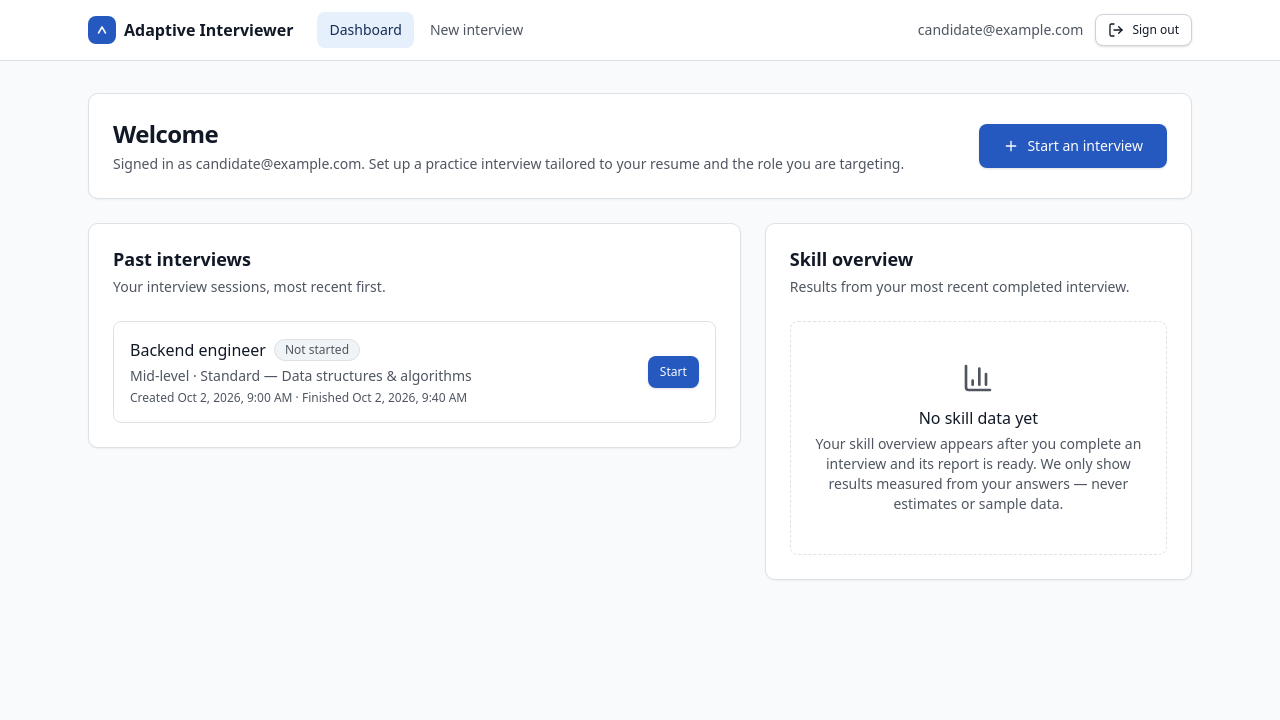
Test: dashboard › starts a not-yet-started session from the list
The width and height of the screenshot is (1280, 720).
Click the button "Start" at (673, 372), box x1=648 y1=356 x2=699 y2=388
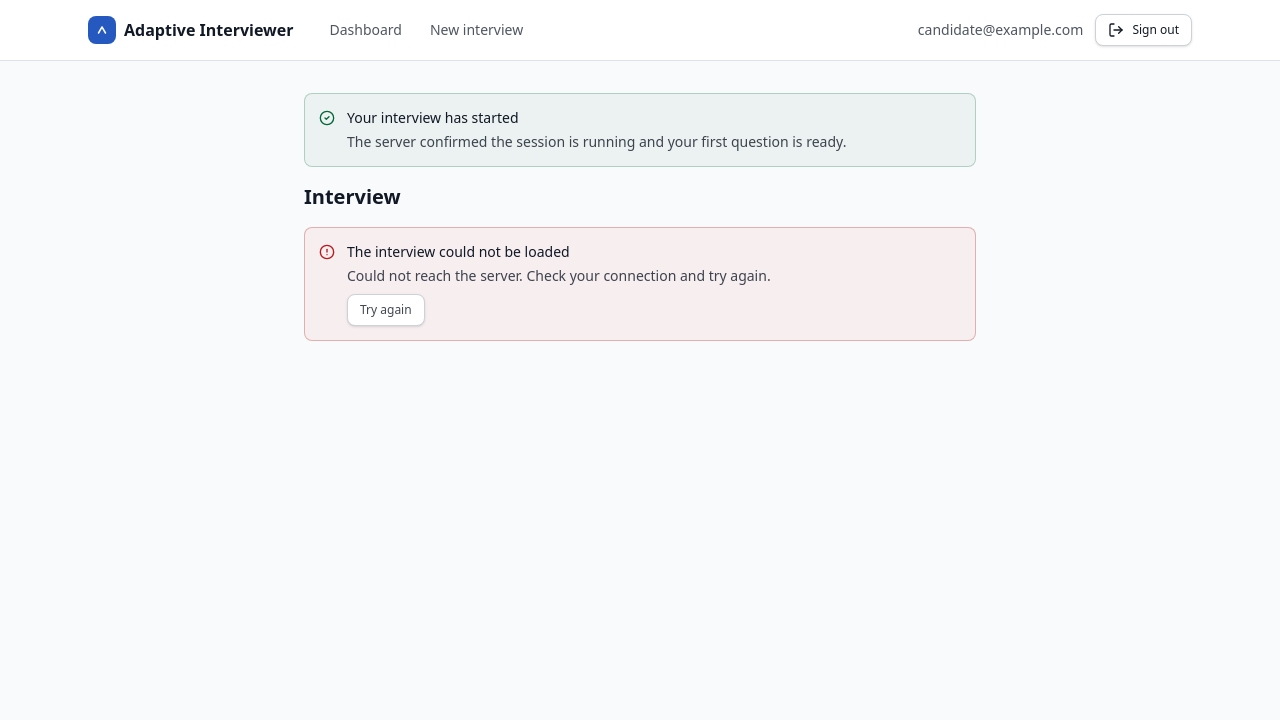
Check: the text "Your interview has started" is shown, box x1=347 y1=108 x2=519 y2=127
